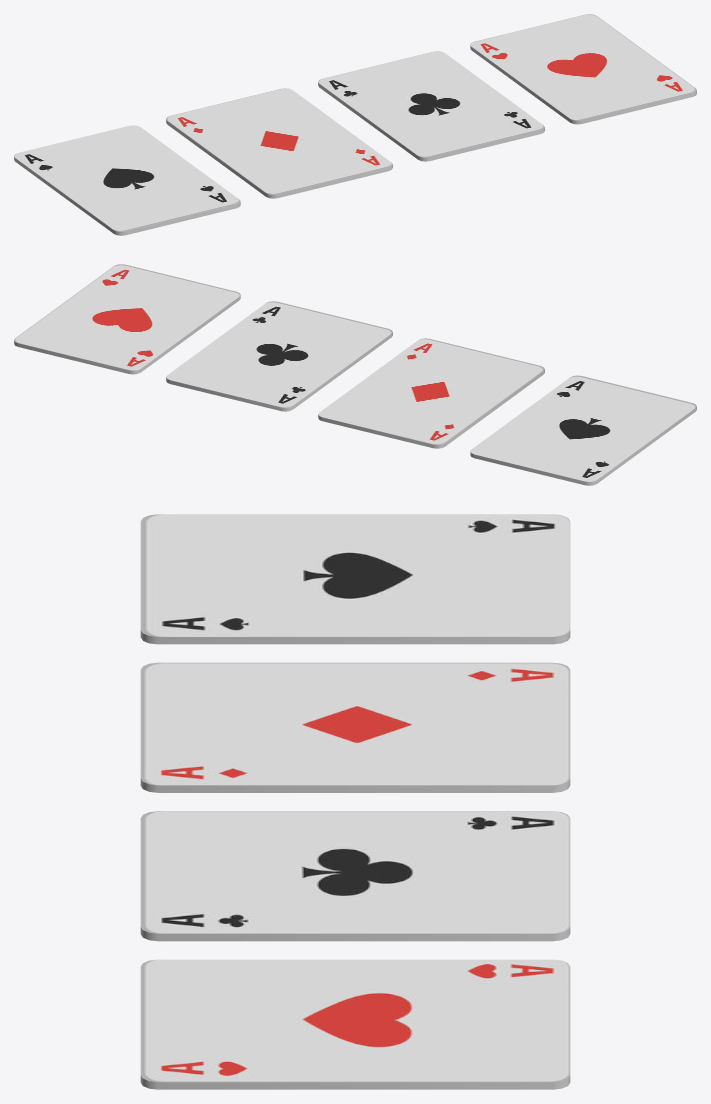
Rendered from cards.fbx.
The picture shows the model from 3 angles, top to bottom: view 1: azimuth 30°, elevation 25°; view 2: azimuth 150°, elevation 25°; view 3: azimuth 270°, elevation 25°; orthographic projection. The views are drawn at different scales.
Visible parts, largest first — view 1: Cube, Cube.001, Cube.002, Cube.003; view 2: Cube, Cube.001, Cube.002, Cube.003; view 3: Cube, Cube.001, Cube.002, Cube.003.
Part boxes in pixels (x1,y1,x2,y2): Cube: [14, 125, 240, 235]; Cube.001: [166, 88, 392, 198]; Cube.002: [318, 51, 544, 161]; Cube.003: [470, 14, 696, 124]; Cube: [470, 375, 696, 485]; Cube.001: [318, 338, 544, 448]; Cube.002: [166, 301, 392, 411]; Cube.003: [14, 264, 240, 374]; Cube: [140, 514, 570, 644]; Cube.001: [140, 662, 570, 792]; Cube.002: [140, 811, 570, 941]; Cube.003: [140, 959, 570, 1089].
Bounding box in the file's own units: 459 × 2.83 × 147.
